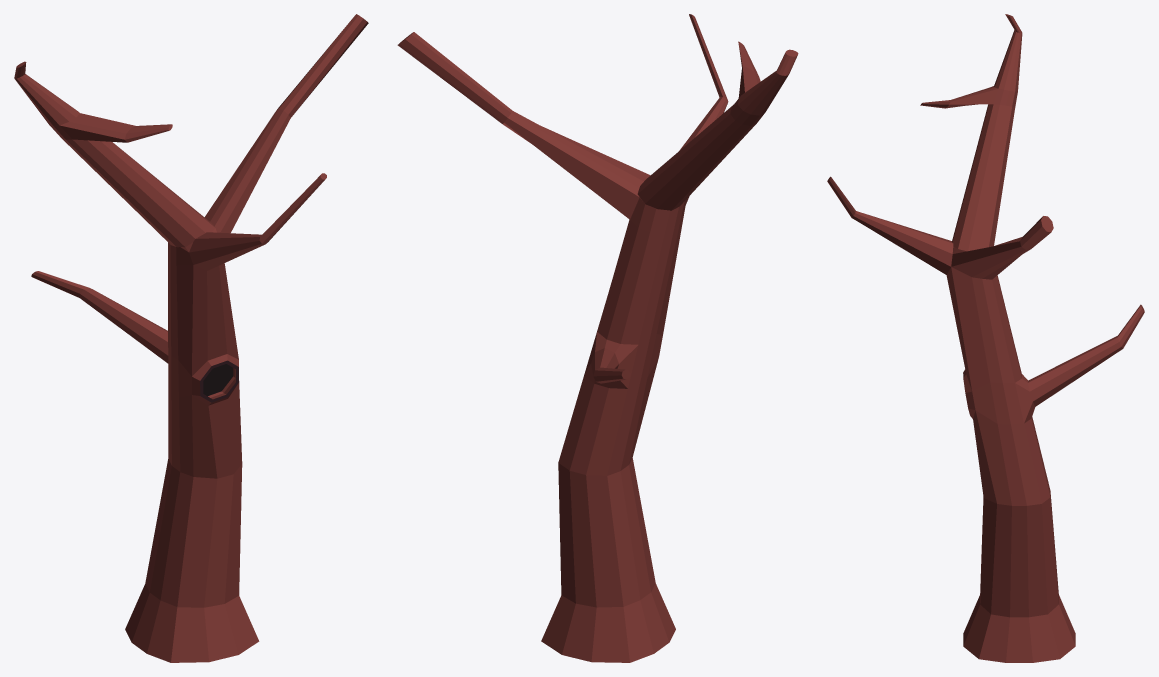
The model's file is tree_bare.fbx.
3 views of the same model, side by side, from view 1: azimuth 30°, elevation 25°; view 2: azimuth 150°, elevation 25°; view 3: azimuth 270°, elevation 25° (orthographic). The views are drawn at different scales.
Parts seen in each view (by area): view 1: Cube; view 2: Cube; view 3: Cube.
Part boxes in pixels (x1,y1,x2,y2): Cube: (14,14,368,662); Cube: (397,14,798,662); Cube: (827,14,1144,662).
Size of the model in its own units: 1418 by 1709 by 2707.
